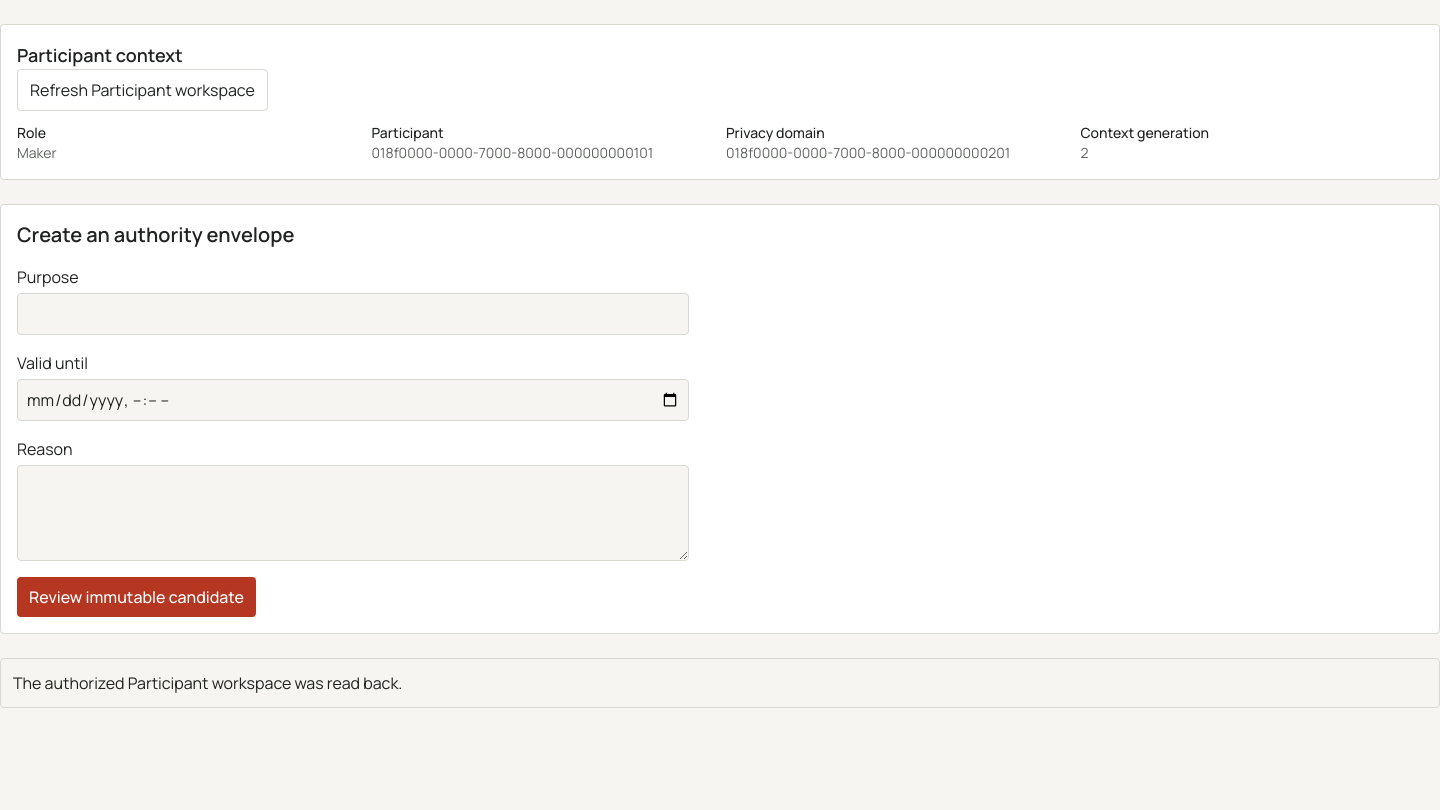
Test: clears the old workspace/review on platform while preserving originals
Later steps or results of the test are not shown.
Expected: the heading "Create an authority envelope" is shown, [17,221,294,248]
Type "Local governance proposal" into the field labelled "Purpose".
click(353, 314); type("Local governance proposal")  # box [17,293,689,335]
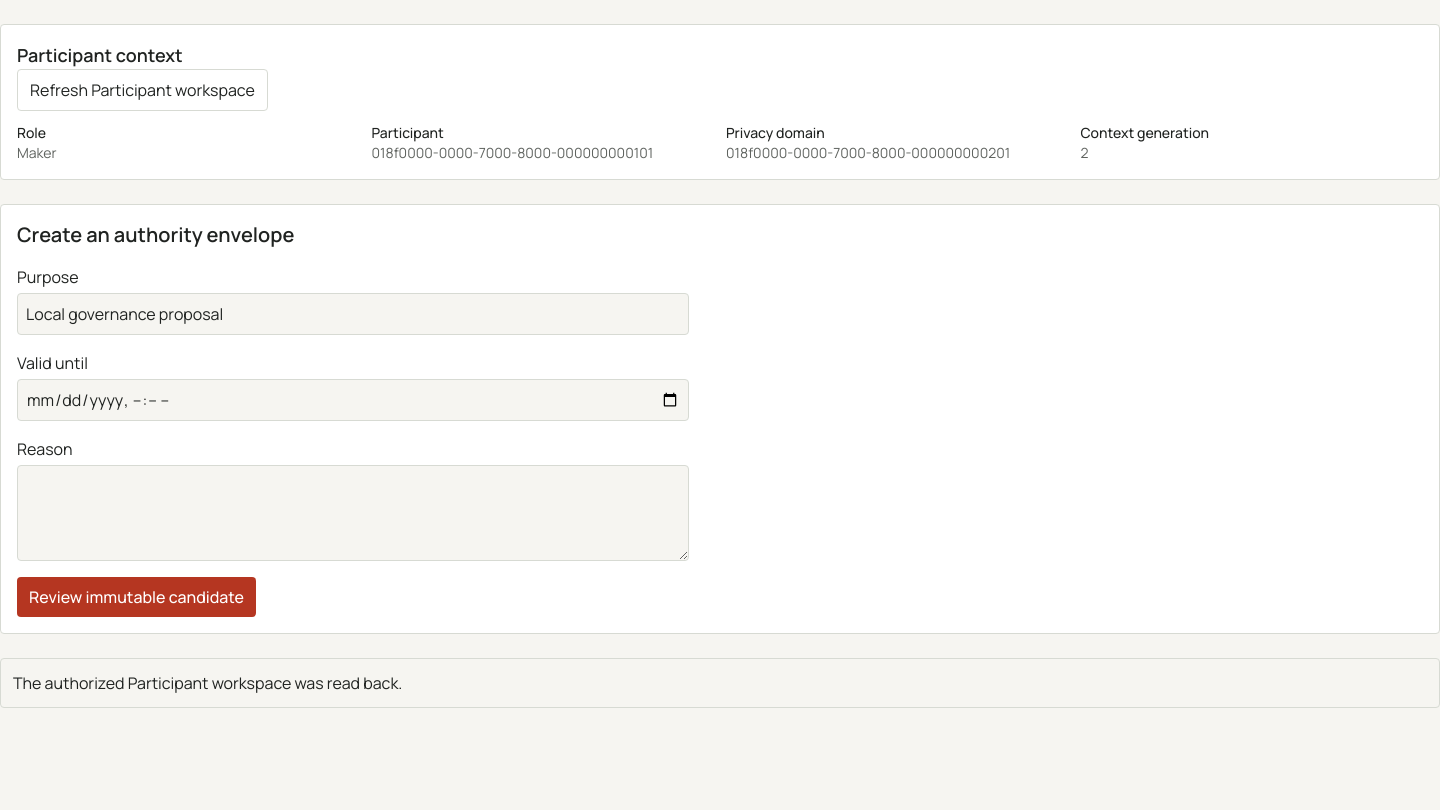
Type "2026-11-10T10:00" into the field labelled "Valid until".
click(353, 400); type("2026-11-10T10:00")  # box [17,379,689,421]
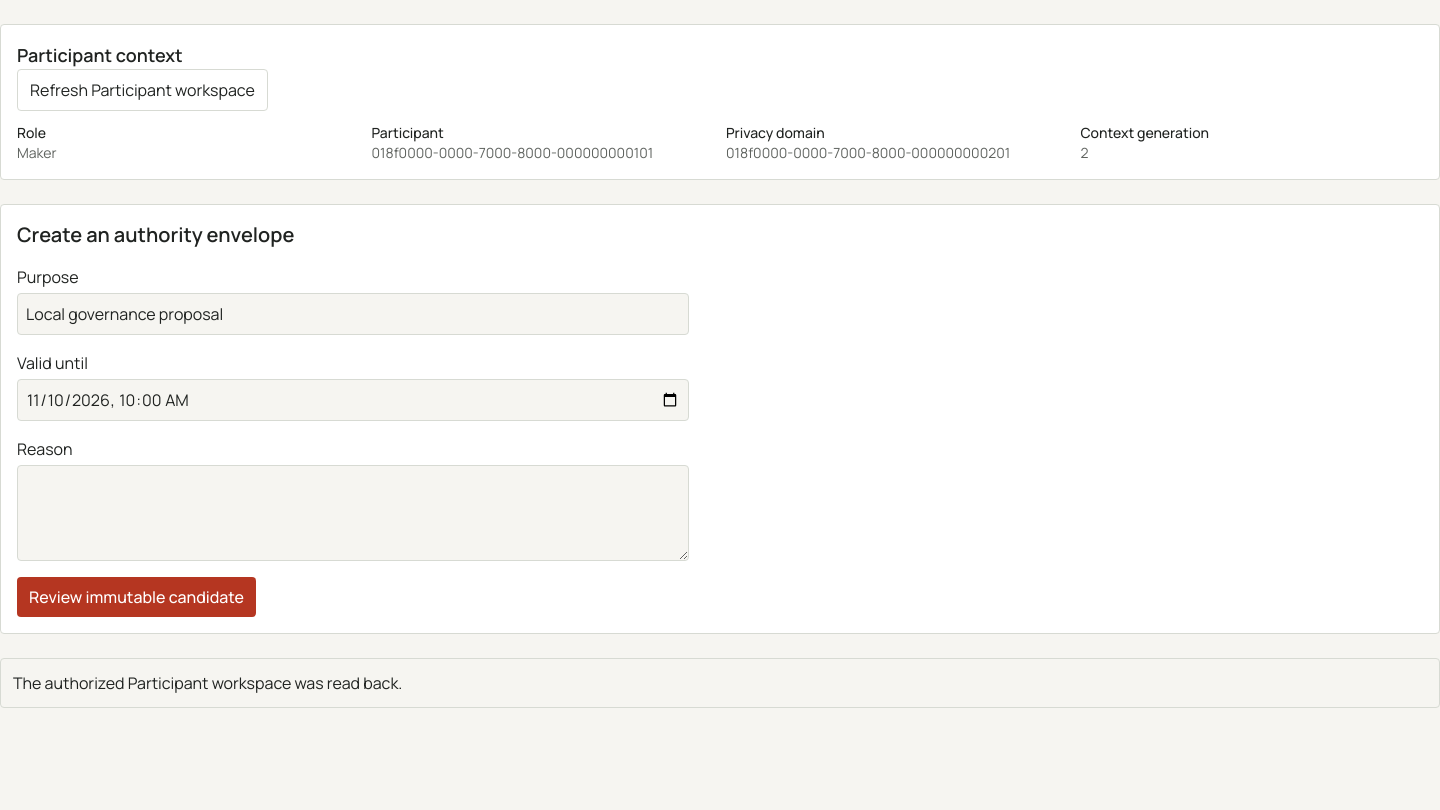
Type "Create the reviewed administration envelope." into the text box labelled "Reason".
click(353, 513); type("Create the reviewed administration envelope.")  # box [17,465,689,561]
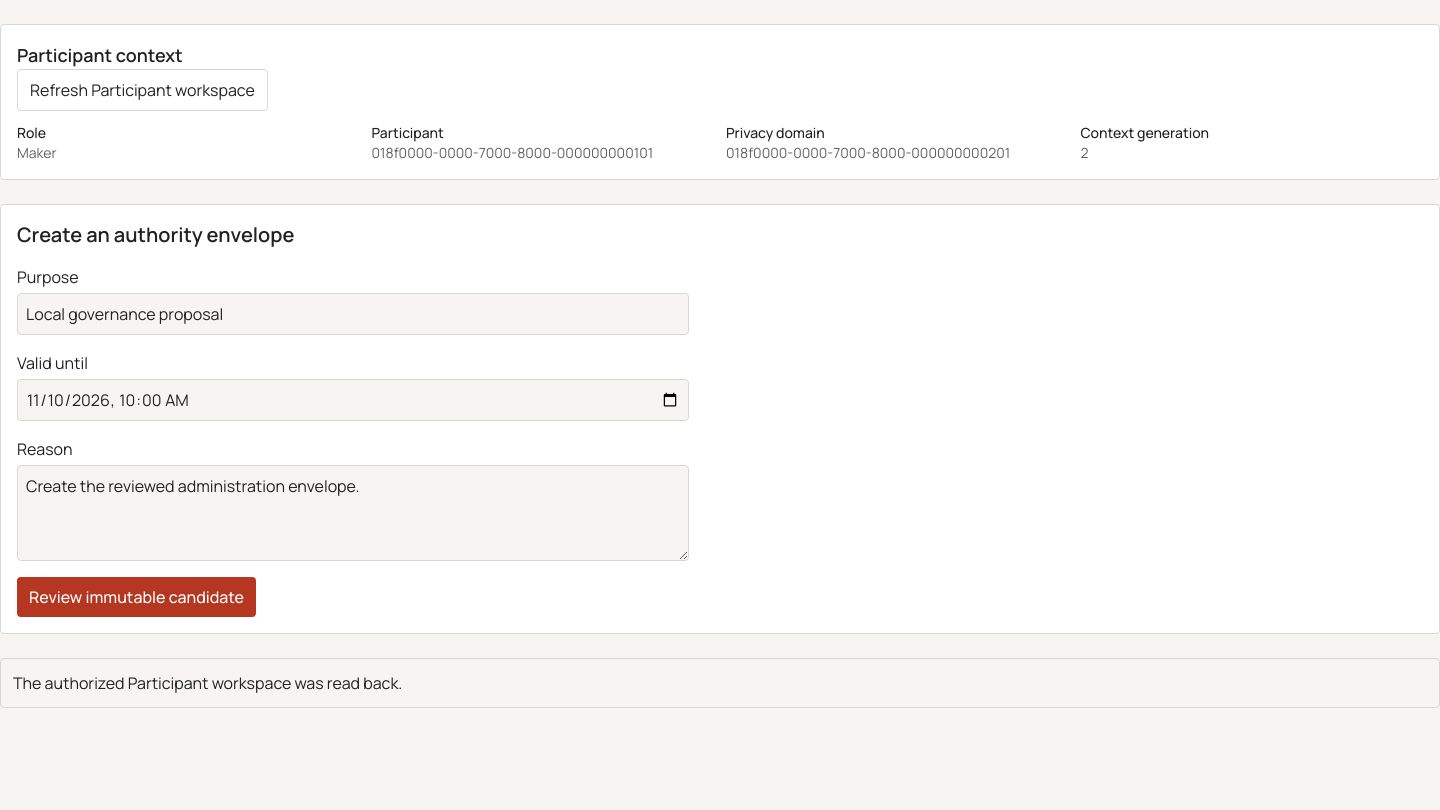
Click the button "Review immutable candidate".
click(136, 597)  # box [17,577,256,617]
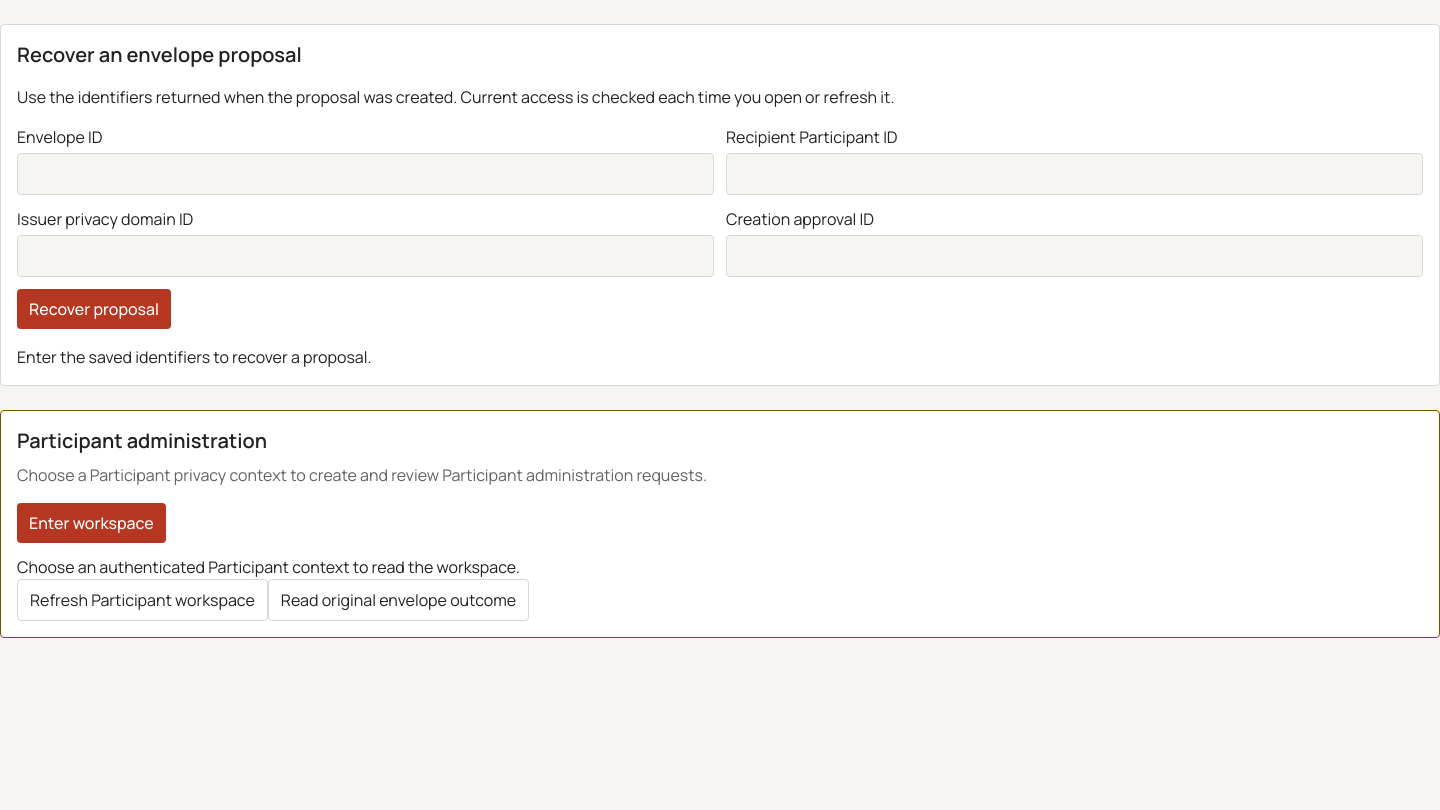
Result: the heading "Participant administration" is shown at [17,427,267,454]
